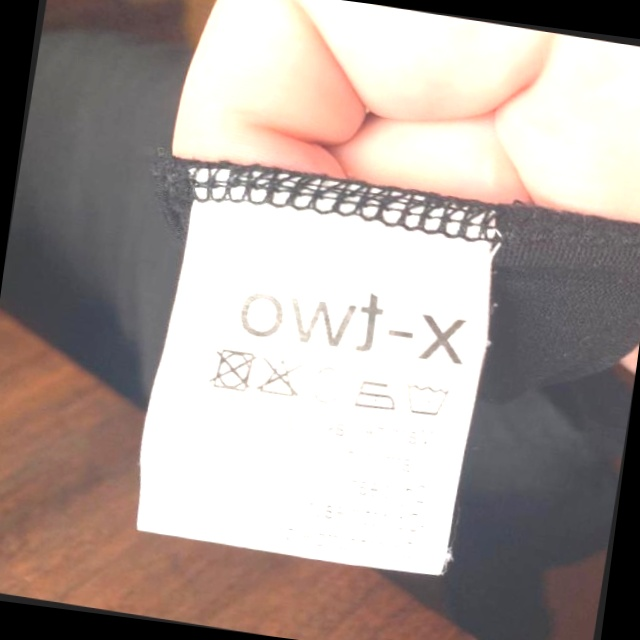30C: (399, 374, 453, 420)
DN_bleach: (253, 350, 305, 402)
DN_tumble_dry: (209, 343, 258, 396)
dry_clean_any_solvent_except_trichloroethylene: (306, 359, 348, 408)
iron_low: (351, 373, 400, 417)
